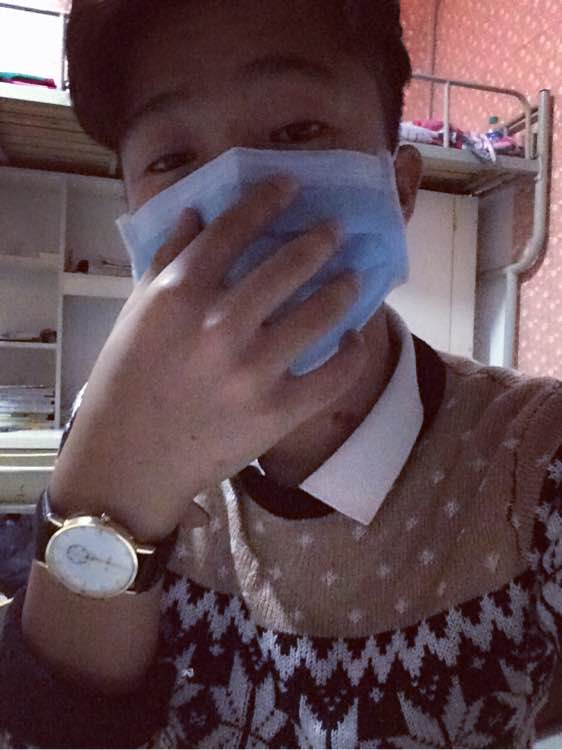face_mask: (114, 0, 388, 426)
